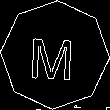M_N: (30, 28, 80, 82)
